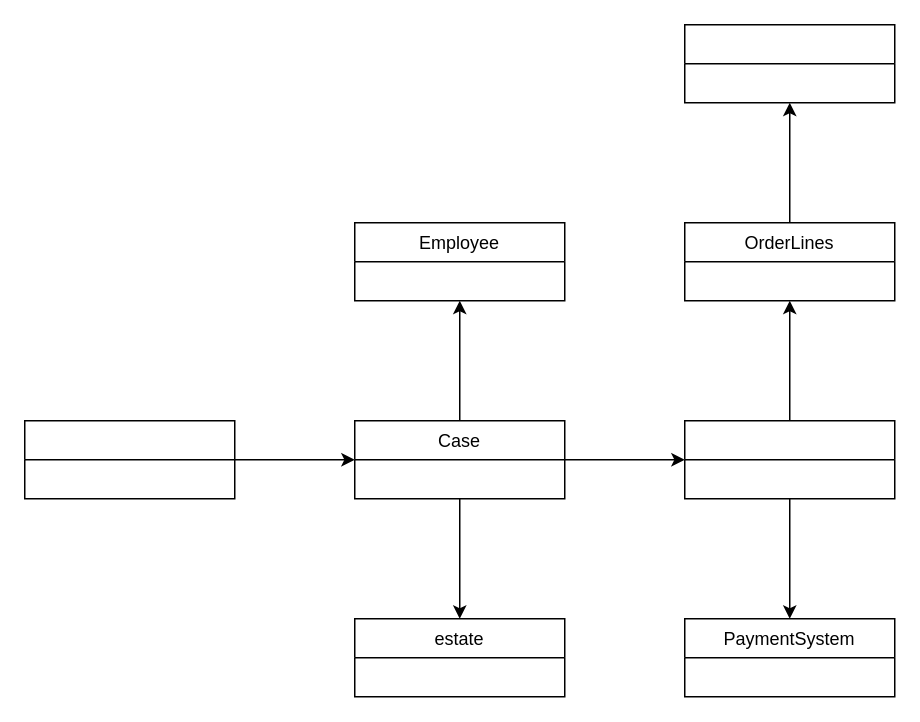
This 920x722 diagram has some shape labels left out. The shapes that lost their labels are listed below. From the top down, each one's box as (x1, y1, x2, y2) in pixels, then its label:
(683, 23, 895, 103): ServicesProducts
(23, 419, 235, 499): Customer
(683, 419, 895, 499): SalesOrder
